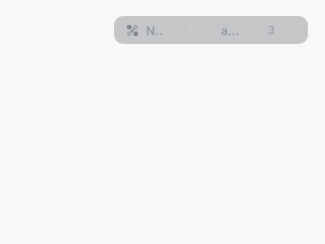
keeps an active overflow tab visible and makes the remaining tabs searchable
Click the heading named "more tabs" at (271, 30), box 268,23 -> 275,37
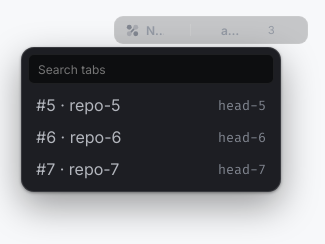
Type "repo-7" into the field with placeholder "Search tabs" at (151, 69), box 28,54 -> 274,84
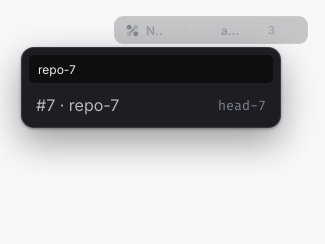
Expected: the menu item "#7 · repo-7 head-7" is shown, 28,89 -> 274,121
Expected: the menu item "#6 · repo-6" is gone
